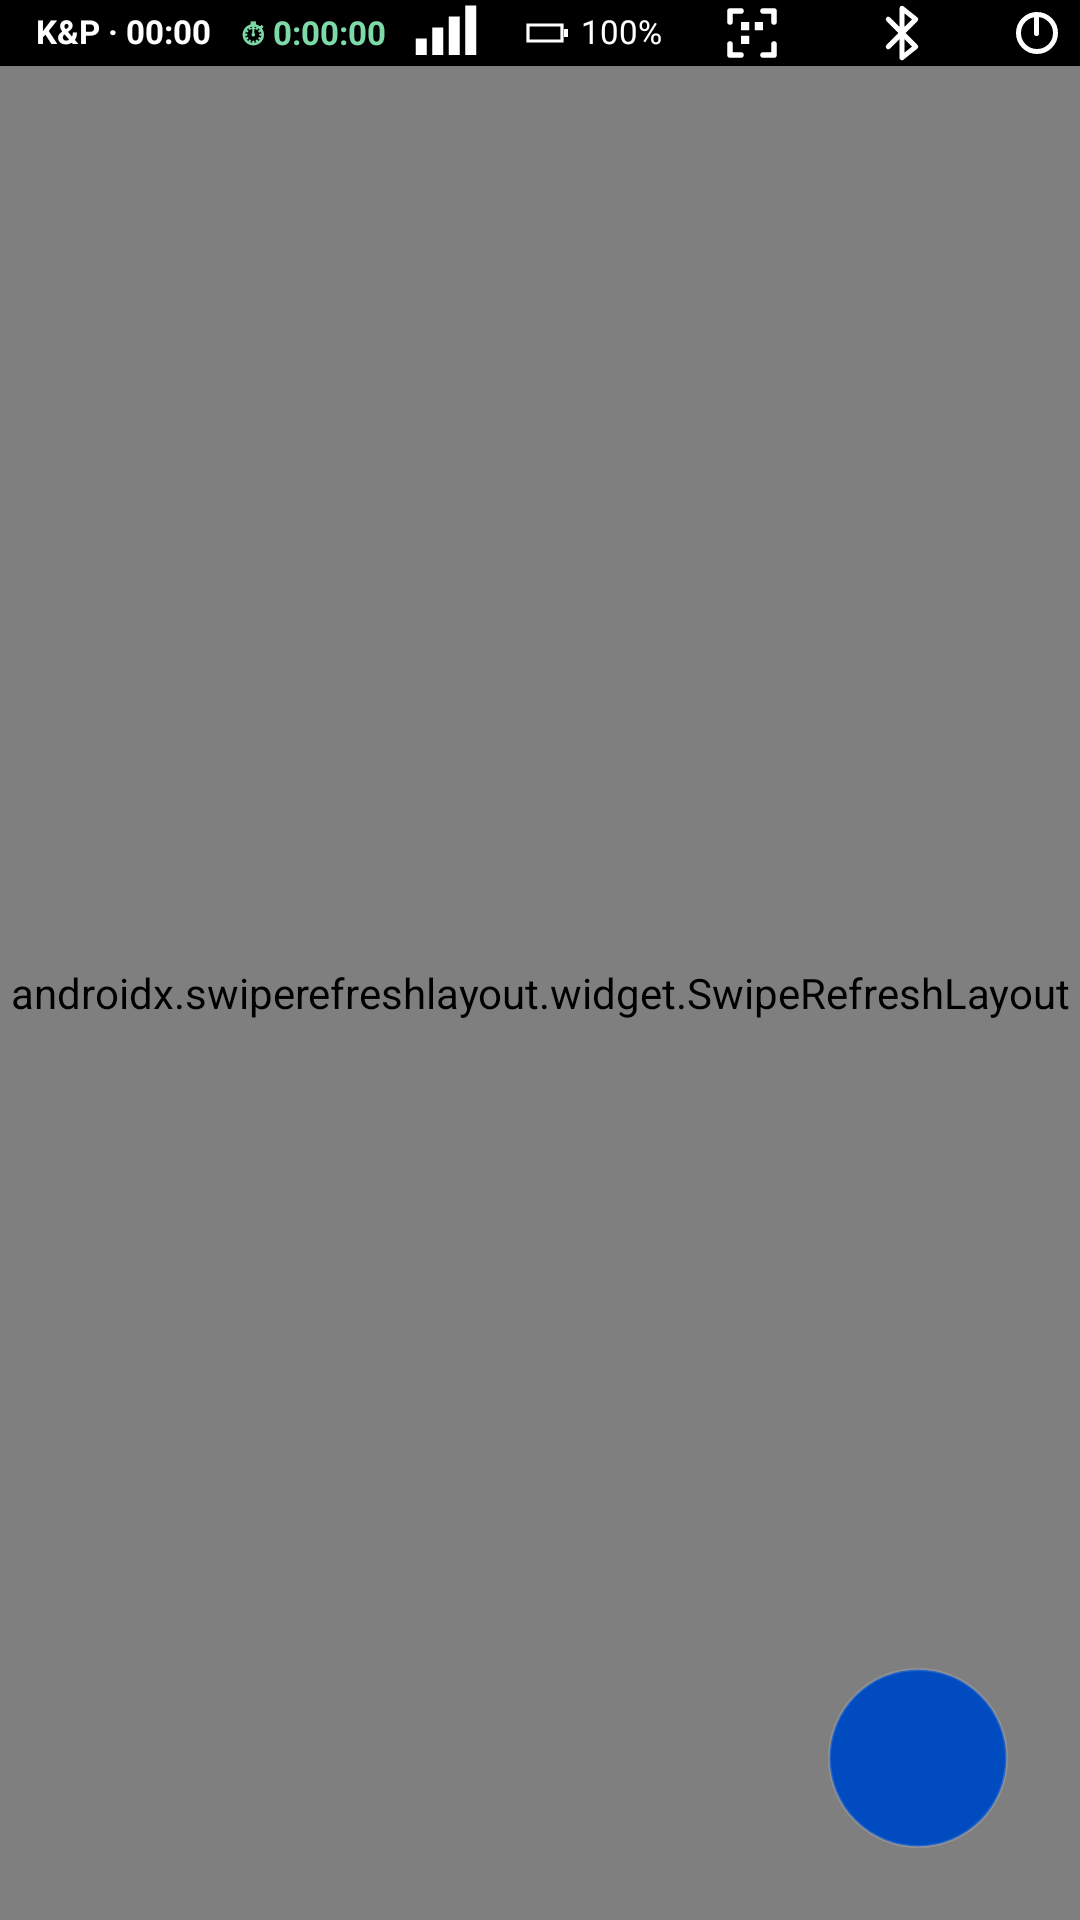

Screen size 1080×1920. Icon name, then its center in pixels as (x,y):
QR 코드 스캔: (752,33)
네트워크 상태 (탭하여 상세 정보 보기): (446,30)
배터리 상태: (547,33)
앱 종료: (1037,33)
